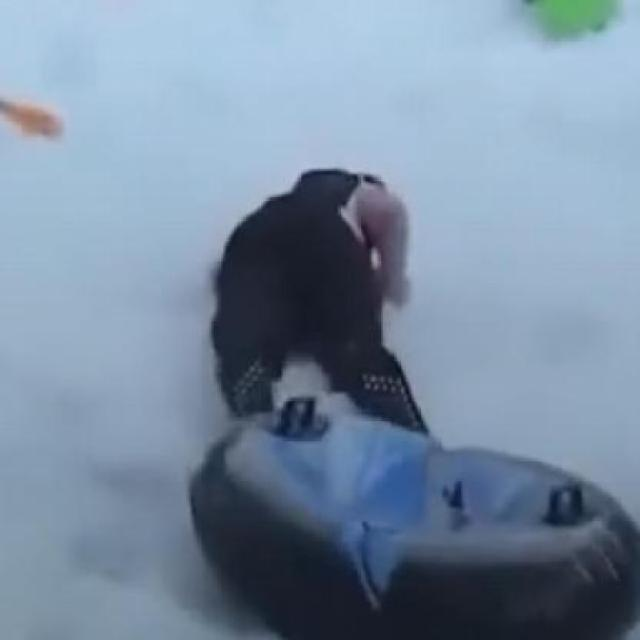fall: (193, 170, 442, 452)
